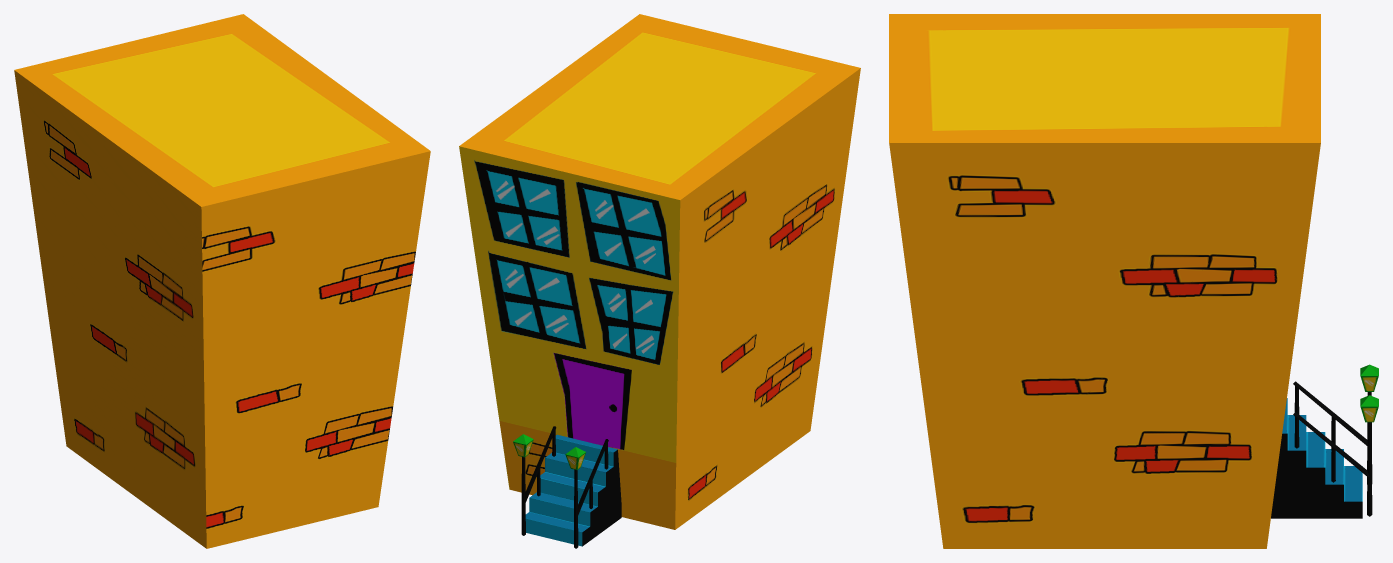
3 renders of one model, left to right at view 1: azimuth 30°, elevation 25°; view 2: azimuth 150°, elevation 25°; view 3: azimuth 270°, elevation 25°, orthographic. The views are drawn at different scales.
Visible parts, largest first — view 1: TODOS:HousesGroup:polySurface18; view 2: TODOS:HousesGroup:polySurface18; view 3: TODOS:HousesGroup:polySurface18.
Boxes of the visible parts, left/top/right/bottom form: TODOS:HousesGroup:polySurface18: left=14, top=14, right=430, bottom=548; TODOS:HousesGroup:polySurface18: left=459, top=14, right=860, bottom=548; TODOS:HousesGroup:polySurface18: left=889, top=14, right=1378, bottom=548.
Bounding box in the file's own units: 11.2 × 17.09 × 17.97.
